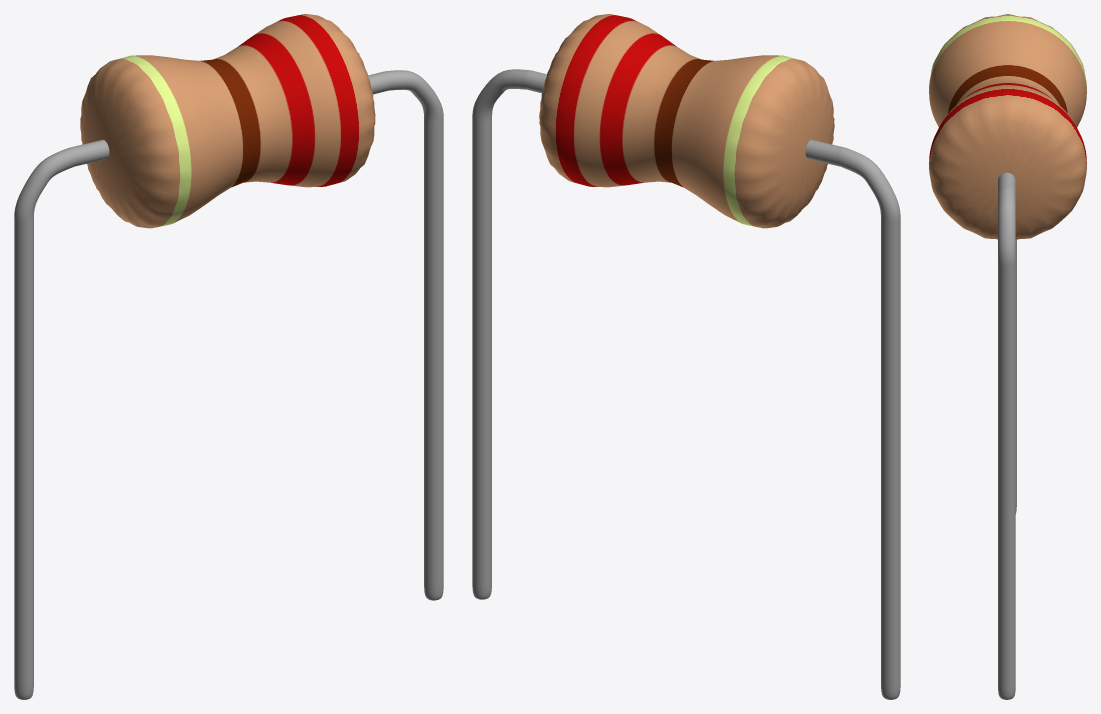
File: Resistencia.fbx
The picture shows the model from 3 angles, left to right: view 1: azimuth 30°, elevation 25°; view 2: azimuth 150°, elevation 25°; view 3: azimuth 270°, elevation 25°; orthographic projection. The views are drawn at different scales.
Parts seen in each view (by area): view 1: Resisitencia, Palo1, Palo2; view 2: Resisitencia, Palo1, Palo2; view 3: Resisitencia, Palo2, Palo1.
Boxes of the visible parts, x1,y1,x2,y2 form: Resisitencia: [80, 14, 375, 228]; Palo1: [14, 139, 109, 699]; Palo2: [368, 70, 443, 600]; Resisitencia: [539, 14, 834, 228]; Palo1: [805, 139, 900, 699]; Palo2: [472, 69, 546, 599]; Resisitencia: [929, 14, 1086, 239]; Palo2: [998, 172, 1015, 699]; Palo1: [1015, 239, 1016, 513].
Bounding box in the file's own units: 2.72 × 3.69 × 0.9598.
2 materials, 1 textured.
